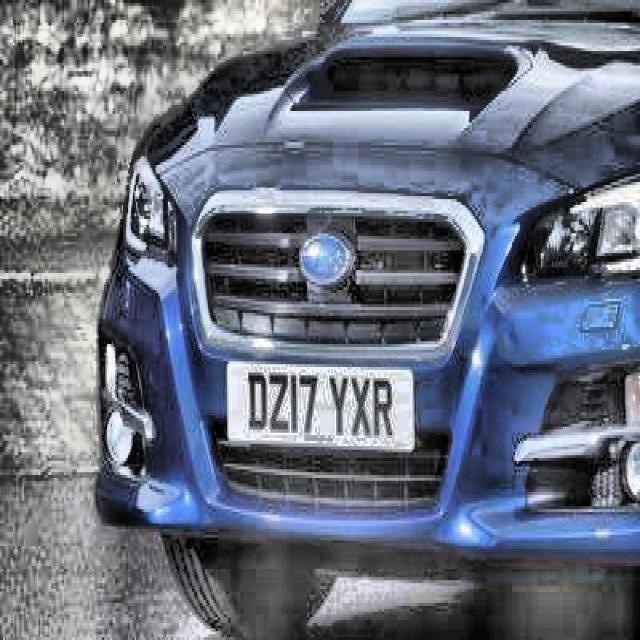license_plate: (226, 362, 418, 460)
